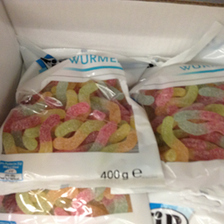candy: (2, 43, 164, 192), (114, 51, 224, 209)
